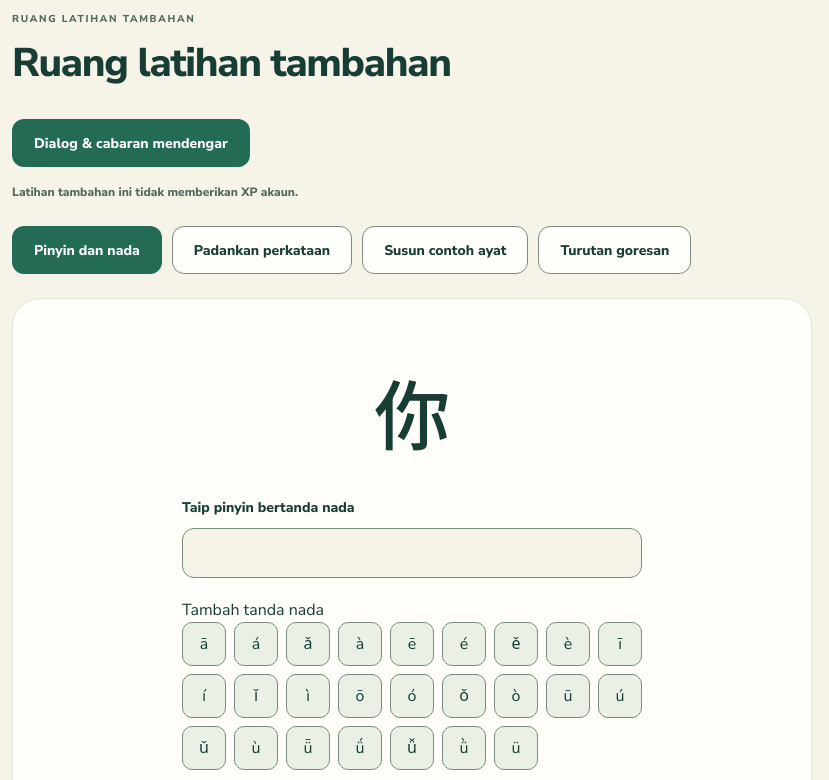
Scenario: exercise interactions › orders authored pinyin as separate tokens
Click the button "Susun contoh ayat": (445, 250) [362,226,528,274]
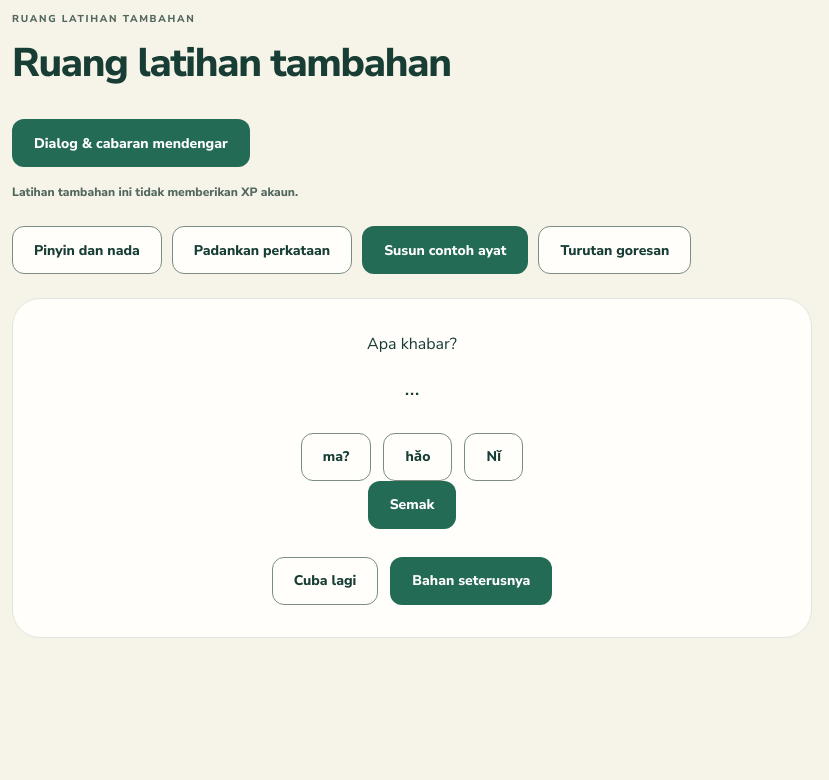
Expected: the button "Nǐ hǎo ma?" is not shown
Click the button "Nǐ": (494, 457) [464,433,523,481]
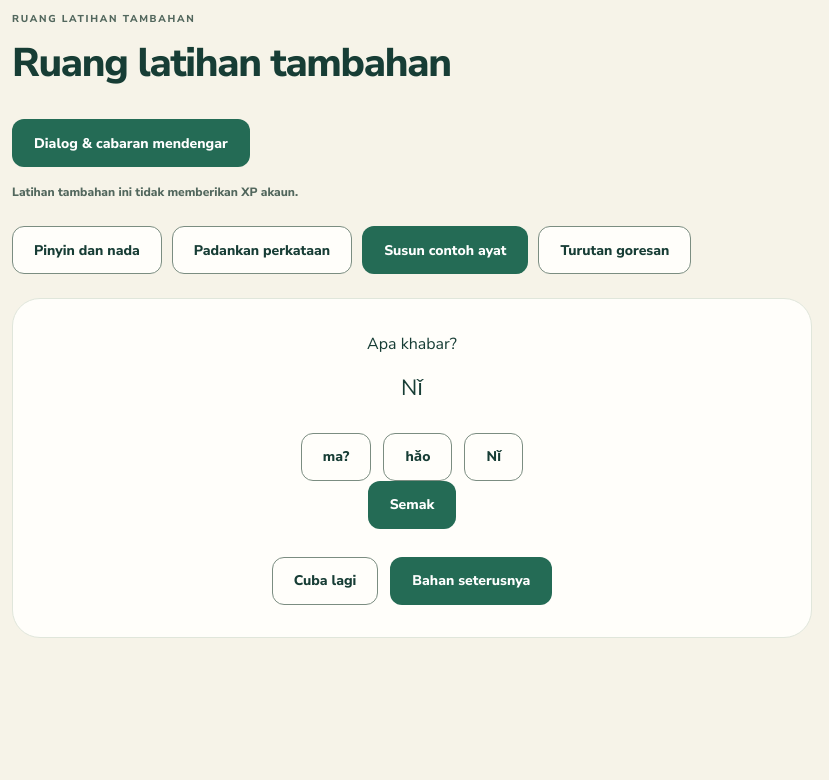
Click the button "hǎo": (418, 457) [383,433,452,481]
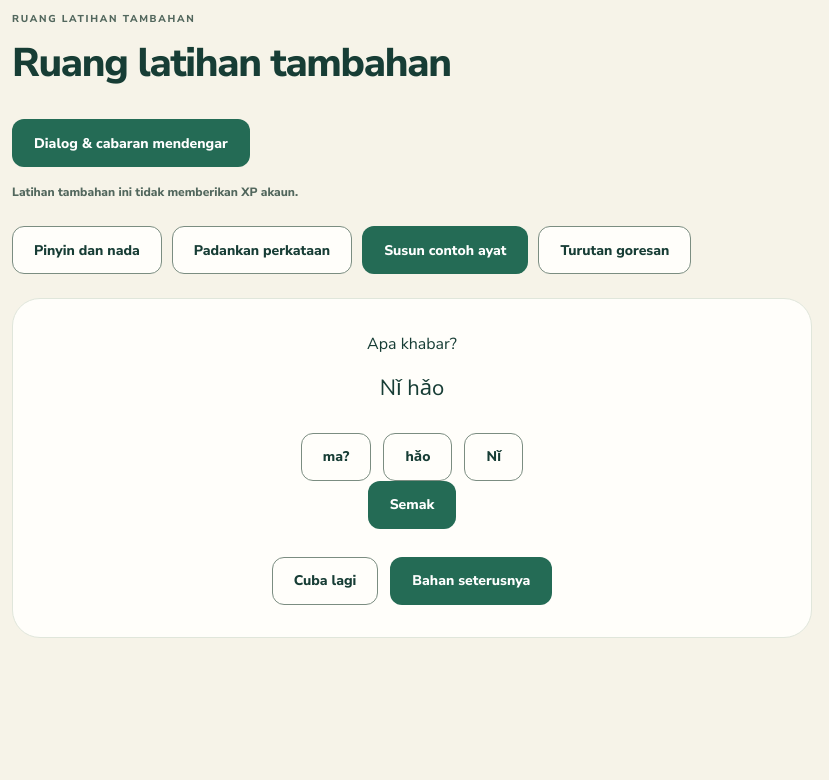
Click the button "ma?": (336, 457) [301,433,371,481]
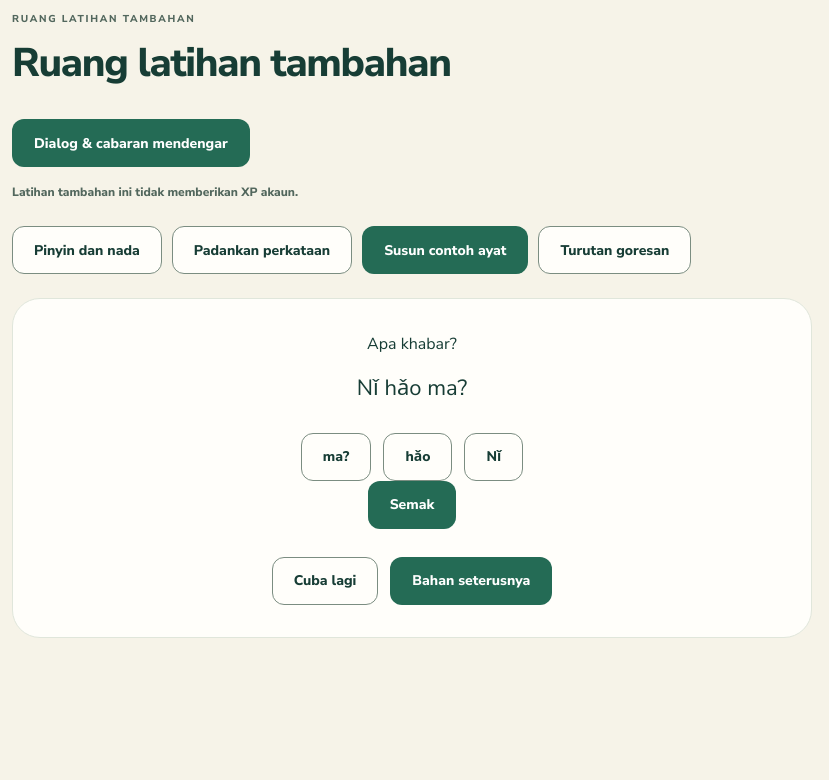
Click the button "Semak": (412, 505) [368,481,456,529]
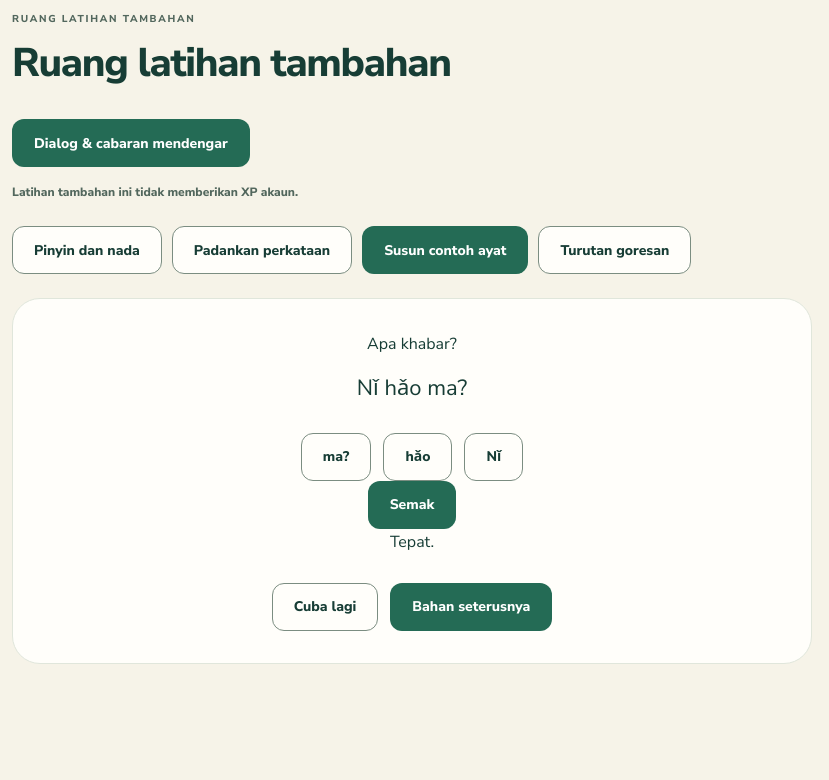
Now the message reads "Tepat.", box [390,531,434,553]
